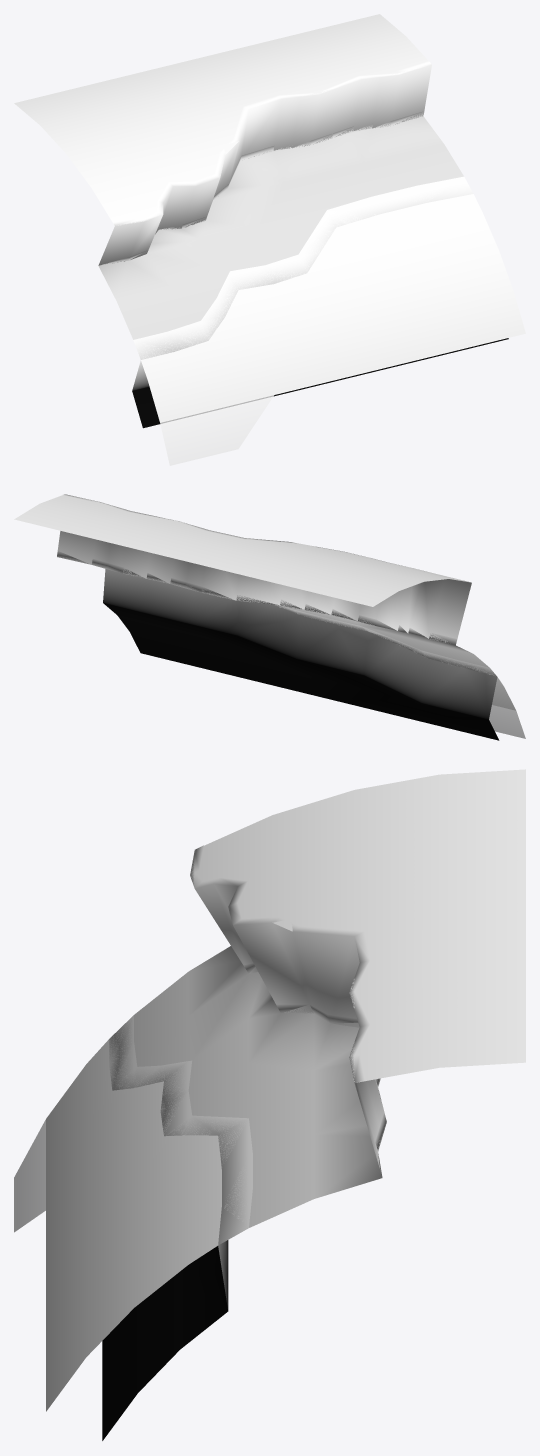
Rendered from grd_Mse_s_0.dae.
3 renders of one model, top to bottom at view 1: azimuth 30°, elevation 25°; view 2: azimuth 150°, elevation 25°; view 3: azimuth 270°, elevation 25°, orthographic. The views are drawn at different scales.
Visible parts, largest first — view 1: grd_Mse_s_0; view 2: grd_Mse_s_0; view 3: grd_Mse_s_0.
Part boxes in pixels (bbox=[...]): grd_Mse_s_0: bbox=[14, 14, 525, 465]; grd_Mse_s_0: bbox=[14, 494, 525, 740]; grd_Mse_s_0: bbox=[14, 769, 525, 1440].
Size of the model in its own units: 512 by 332 by 378.
Materials: 6 (1 with a texture image).
